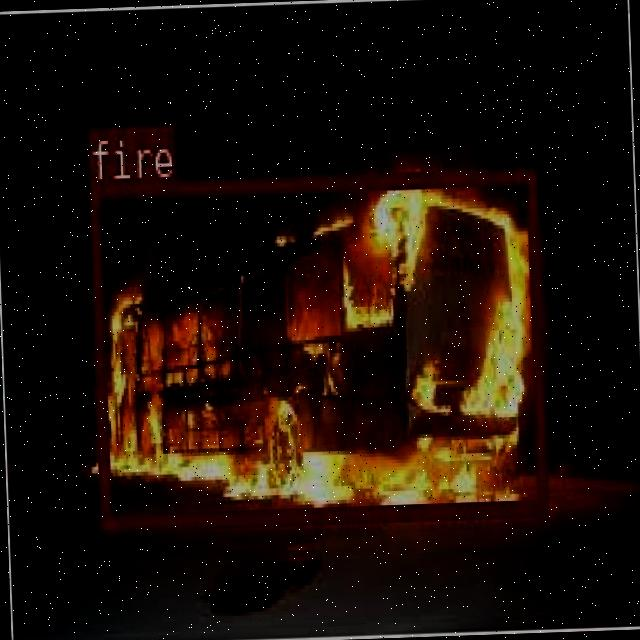fire: (86, 165, 546, 526)
